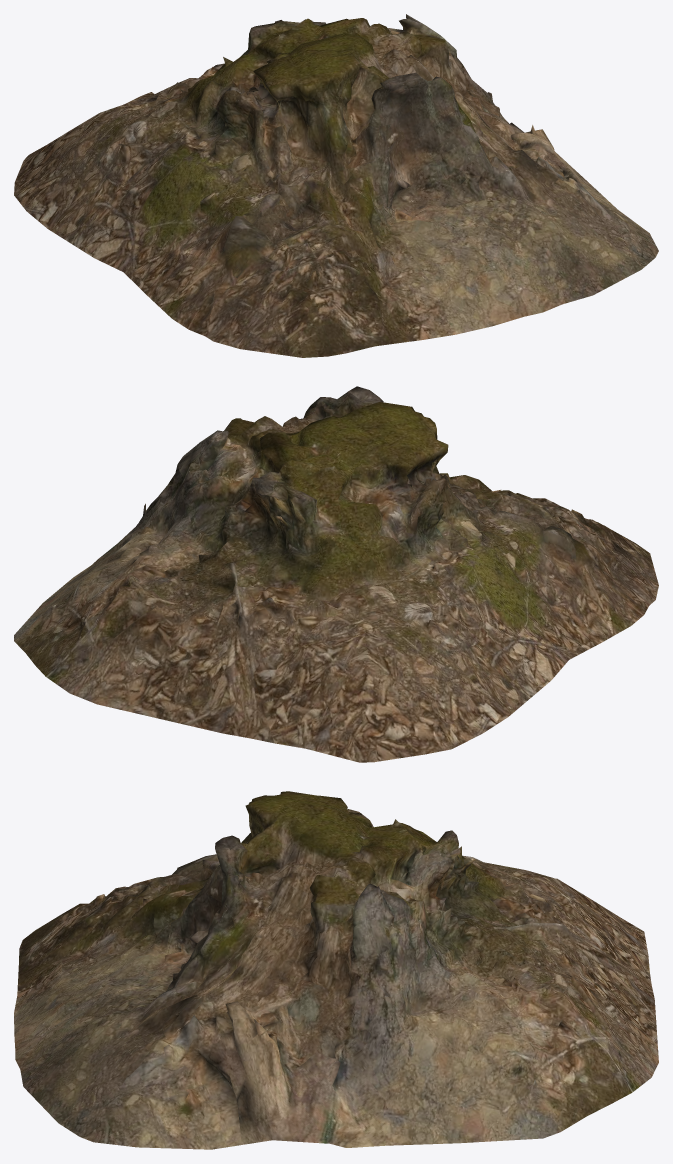
Rendered from tree_stump_01-mobile.glb.
3 views of the same model, one above another, from view 1: azimuth 30°, elevation 25°; view 2: azimuth 150°, elevation 25°; view 3: azimuth 270°, elevation 25° (orthographic). The views are drawn at different scales.
Visible parts, largest first — view 1: tree_stump_01; view 2: tree_stump_01; view 3: tree_stump_01.
Boxes of the visible parts, x1,y1,x2,y2 form: tree_stump_01: (14, 14, 658, 357); tree_stump_01: (14, 386, 658, 762); tree_stump_01: (14, 791, 658, 1149).
Size of the model in its own units: 1.43 by 0.57 by 1.59.
1 material, 1 textured.
